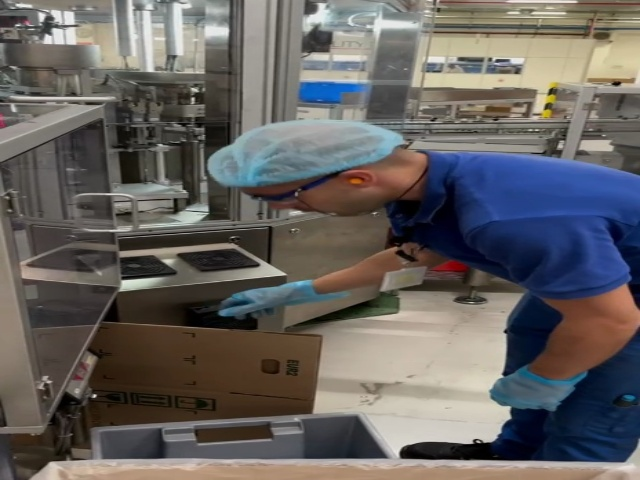Earplug: (340, 168, 376, 192)
Hairnet: (218, 122, 385, 186)
No_Helmet: (213, 121, 379, 185)
No_Vest: (418, 150, 640, 294)
Person: (212, 121, 640, 460)
Safety_Goggles: (248, 173, 333, 208)
